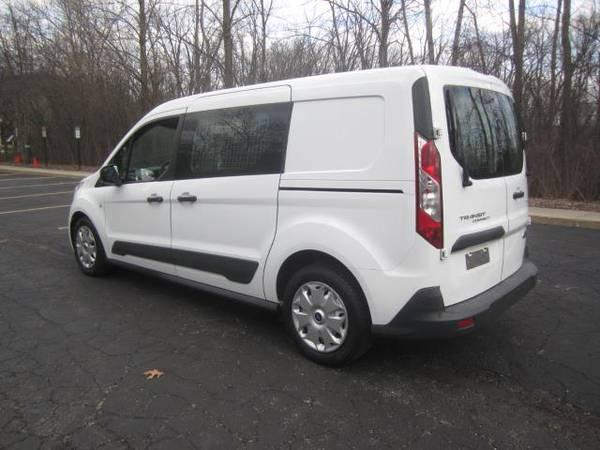Front_Fender: (69, 182, 111, 262)
Front_Left_Door: (105, 182, 175, 278)
Front_Left_Window: (101, 109, 187, 186)
Left_Taillight: (415, 128, 442, 249)
Rear_Bumper: (348, 235, 538, 339)
Rear_Fender: (261, 90, 415, 306)
Rear_Left_Door: (170, 176, 279, 301)
Rear_Left_Window: (174, 100, 293, 181)
Roof: (99, 64, 515, 167)
Tailgate: (430, 83, 528, 299)
Wheel: (279, 260, 367, 359), (74, 220, 103, 275)
